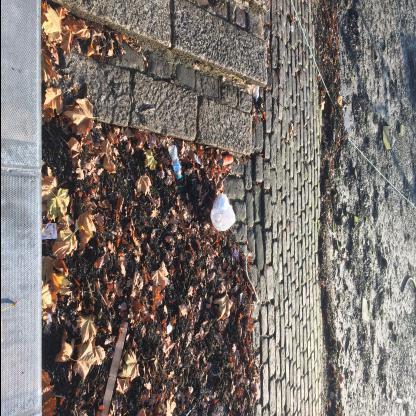karton: (167, 145, 181, 179)
plastik: (209, 194, 235, 231), (217, 154, 233, 166)
